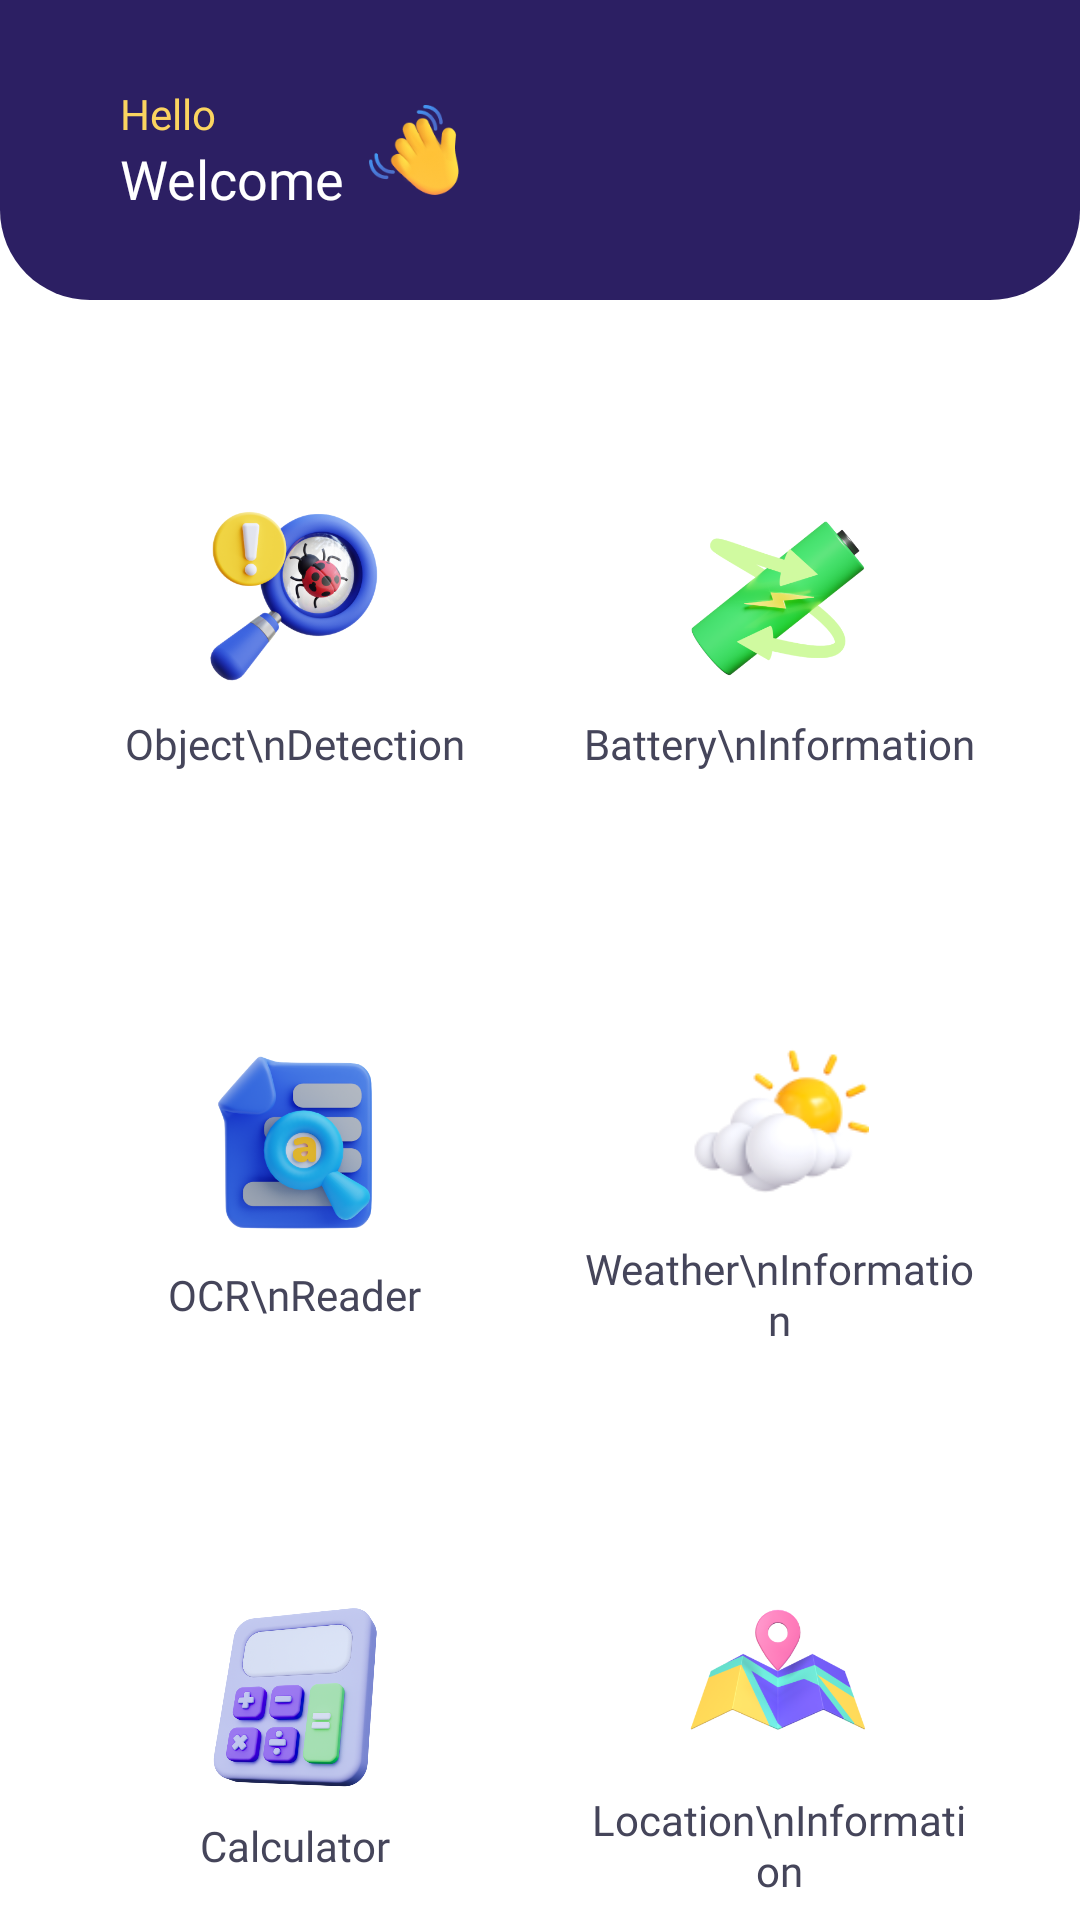

Icons on this 1080px×1920px Android screen, each with its box as (x1, y1, x2, y2):
maps: (691, 1610, 865, 1730)
